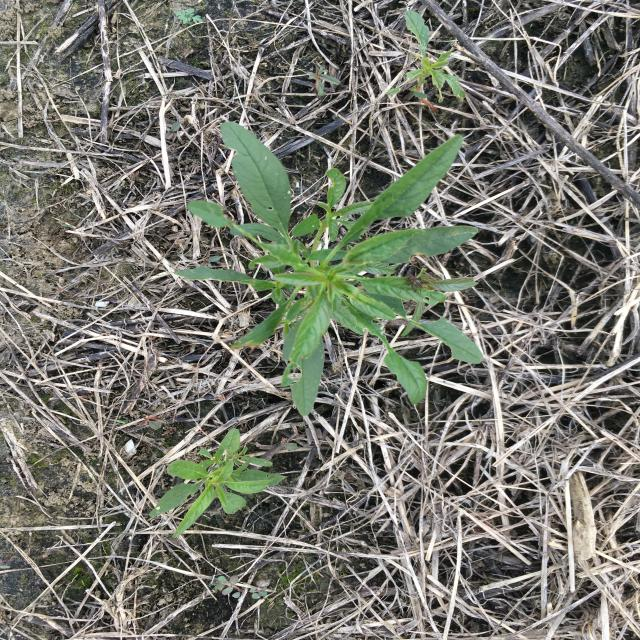Waterhemp: (173, 121, 485, 417), (146, 426, 292, 540), (388, 8, 471, 105)
